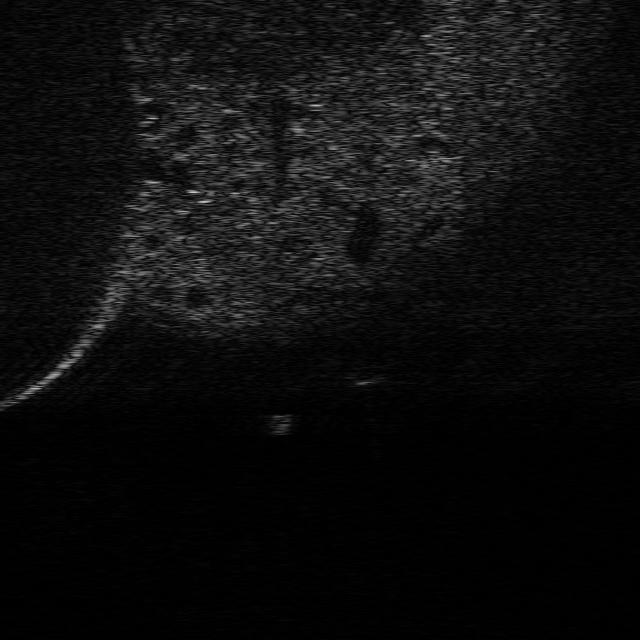cube: (343, 364, 385, 386)
cylinder: (265, 413, 294, 437)
